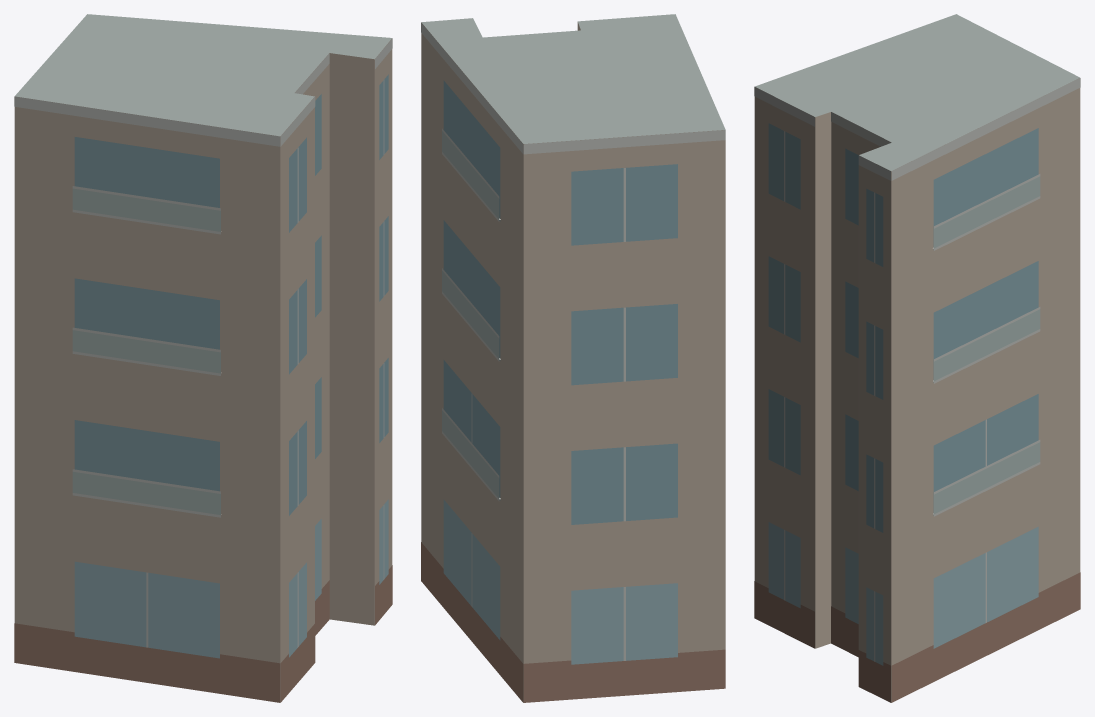
File: survey-upis-32472258.glb
3 views of the same model, side by side, from view 1: azimuth 30°, elevation 25°; view 2: azimuth 150°, elevation 25°; view 3: azimuth 270°, elevation 25° (orthographic). The views are drawn at different scales.
Visible parts, largest first — view 1: survey-upis-32472258.tmp; view 2: survey-upis-32472258.tmp; view 3: survey-upis-32472258.tmp.
Boxes of the visible parts, left/top/right/bottom form: survey-upis-32472258.tmp: left=14, top=14, right=392, bottom=702; survey-upis-32472258.tmp: left=421, top=14, right=725, bottom=702; survey-upis-32472258.tmp: left=754, top=14, right=1080, bottom=702.
Size of the model in its own units: 8.38 by 13.2 by 7.34.
